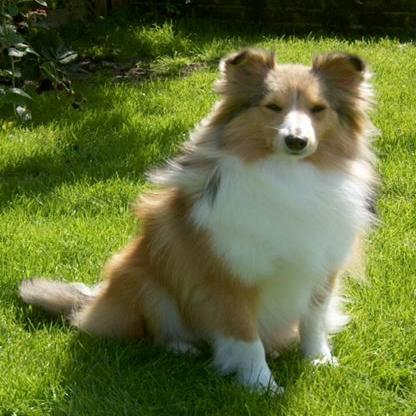Shetland_sheepdog: (12, 48, 382, 393)
